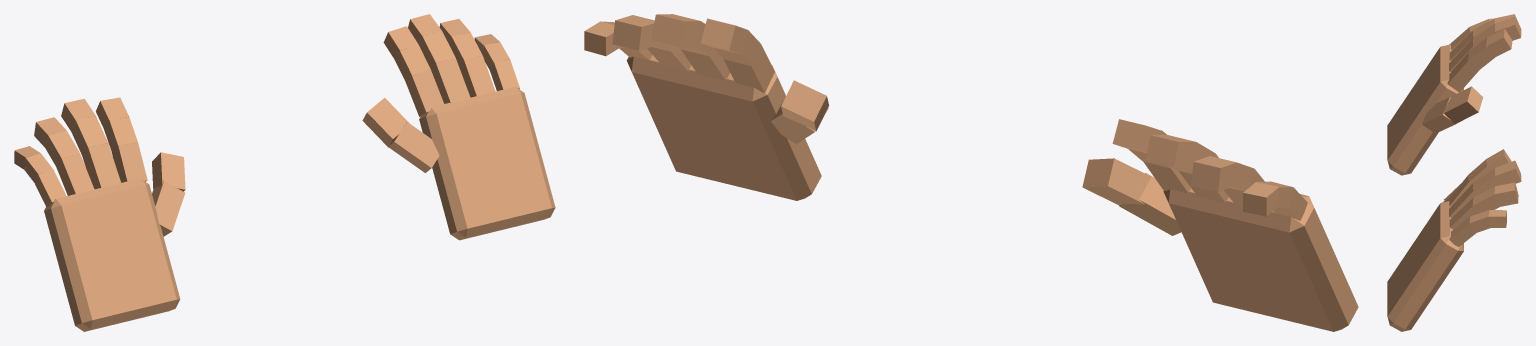
File: hands_simple_open.glb
3 renders of one model, left to right at view 1: azimuth 30°, elevation 25°; view 2: azimuth 150°, elevation 25°; view 3: azimuth 270°, elevation 25°, orthographic. The views are drawn at different scales.
Parts seen in each view (by area): view 1: LeftPalm, RightPalm, RightThumb1, LeftMiddle1, RightThumb2, RightMiddle1, RightIndex1, LeftThumb1, LeftIndex1, LeftRing1, LeftThumb2, RightRing1 (+16 smaller); view 2: LeftPalm, RightPalm, LeftThumb2, RightThumb2, LeftThumb1, RightMiddle3, LeftMiddle3, LeftRing3, RightRing3, RightIndex1, RightIndex3, LeftIndex3 (+7 smaller); view 3: RightPalm, LeftPalm, LeftThumb2, LeftThumb1, LeftIndex1, LeftIndex3, RightMiddle3, RightRing3, LeftIndex2, RightRing2, RightPinky1, RightMiddle2 (+13 smaller).
Part boxes in pixels (x1=…): LeftPalm: x1=44, y1=179, x2=180, y2=331; RightPalm: x1=419, y1=86, x2=555, y2=240; RightThumb1: x1=389, y1=122, x2=439, y2=172; LeftMiddle1: x1=81, y1=143, x2=121, y2=189; RightThumb2: x1=362, y1=98, x2=408, y2=147; RightMiddle1: x1=431, y1=57, x2=470, y2=103; RightIndex1: x1=406, y1=68, x2=444, y2=116; LeftThumb1: x1=152, y1=181, x2=185, y2=236; LeftIndex1: x1=111, y1=142, x2=147, y2=182; LeftRing1: x1=56, y1=153, x2=94, y2=195; LeftThumb2: x1=152, y1=152, x2=185, y2=191; RightRing1: x1=458, y1=56, x2=495, y2=97; LeftPalm: x1=1163, y1=188, x2=1358, y2=331; RightPalm: x1=626, y1=55, x2=821, y2=200; LeftThumb2: x1=1082, y1=158, x2=1151, y2=205; RightThumb2: x1=781, y1=80, x2=828, y2=131; LeftThumb1: x1=1119, y1=173, x2=1181, y2=235; RightMiddle3: x1=651, y1=14, x2=700, y2=47; LeftMiddle3: x1=1145, y1=135, x2=1196, y2=167; LeftRing3: x1=1191, y1=156, x2=1236, y2=191; RightRing3: x1=612, y1=15, x2=654, y2=50; RightIndex1: x1=723, y1=44, x2=774, y2=92; RightIndex3: x1=700, y1=18, x2=747, y2=54; LeftIndex3: x1=1112, y1=119, x2=1162, y2=153; RightPalm: x1=1387, y1=201, x2=1463, y2=331; LeftPalm: x1=1387, y1=44, x2=1463, y2=175; LeftThumb2: x1=1444, y1=86, x2=1483, y2=123; LeftThumb1: x1=1422, y1=97, x2=1455, y2=133; LeftIndex1: x1=1447, y1=52, x2=1479, y2=92; LeftIndex3: x1=1486, y1=29, x2=1512, y2=57; RightMiddle3: x1=1495, y1=160, x2=1521, y2=184; RightRing3: x1=1494, y1=182, x2=1518, y2=207; LeftIndex2: x1=1468, y1=37, x2=1494, y2=70; RightRing2: x1=1472, y1=186, x2=1499, y2=213; RightPinky1: x1=1449, y1=216, x2=1475, y2=246; RightMiddle2: x1=1473, y1=168, x2=1502, y2=195.
Size of the model in its own units: 0.4067 by 0.1373 by 0.1159.
